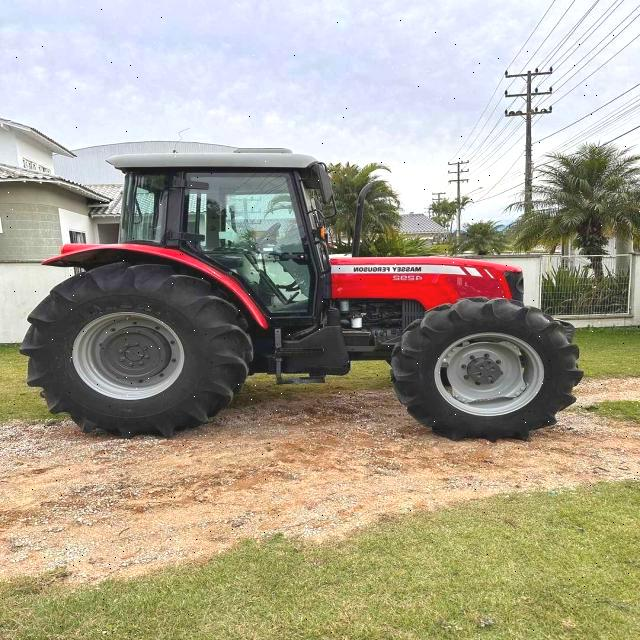Tratores - v5 YOLO V8L 2024-11-13: (21, 139, 584, 449)
